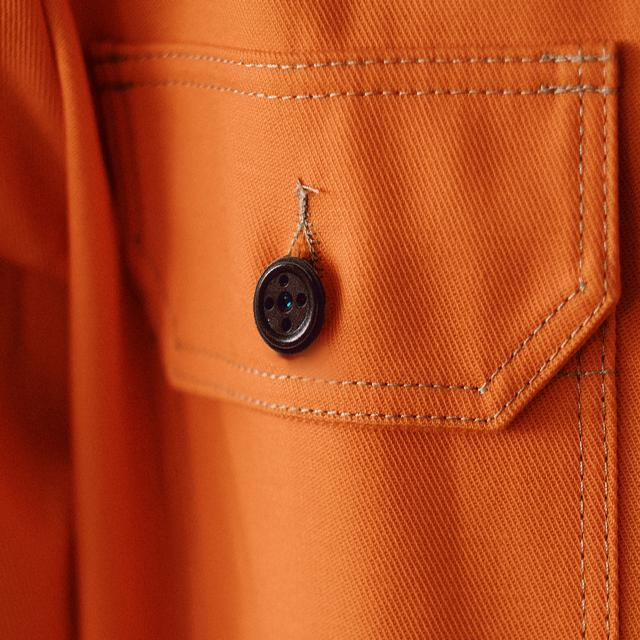hidden camera: (274, 287, 295, 315)
